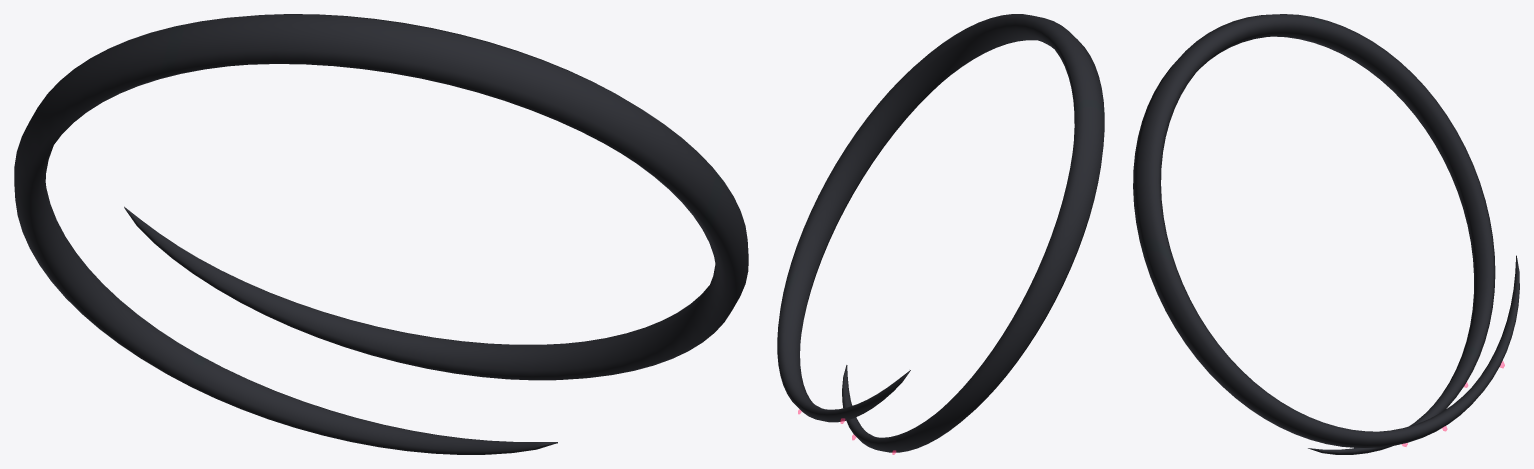
The model's file is seraphina-coil.glb.
3 views of the same model, side by side, from view 1: azimuth 30°, elevation 25°; view 2: azimuth 150°, elevation 25°; view 3: azimuth 270°, elevation 25° (orthographic). The views are drawn at different scales.
Parts seen in each view (by area): view 1: Seraphina_FluidCoil; view 2: Seraphina_FluidCoil; view 3: Seraphina_FluidCoil.
Boxes of the visible parts, x1=… form: Seraphina_FluidCoil: x1=14, y1=14, x2=748, y2=454; Seraphina_FluidCoil: x1=777, y1=14, x2=1104, y2=452; Seraphina_FluidCoil: x1=1133, y1=14, x2=1519, y2=454.
Size of the model in its own units: 1.48 by 1.46 by 1.42.
2 materials, 1 textured.
